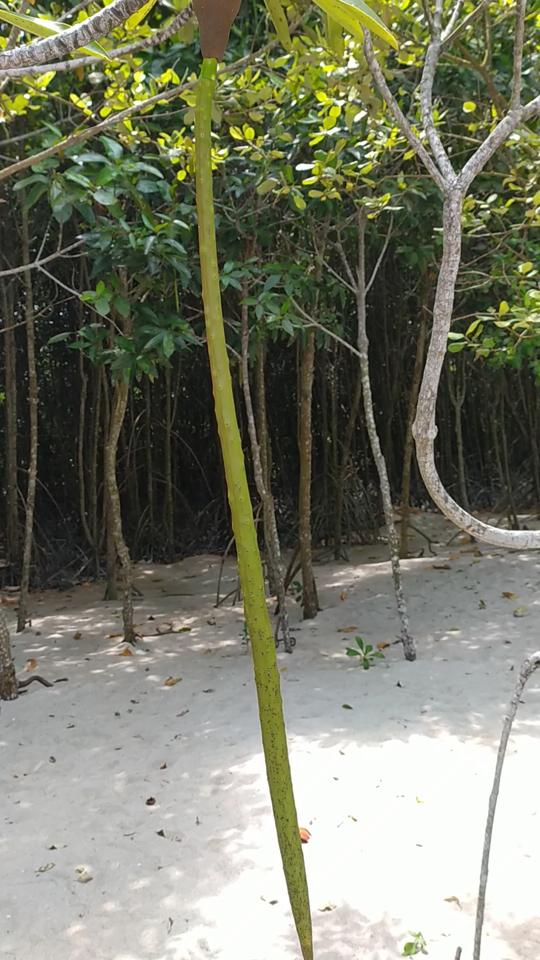mentah: (160, 1, 331, 956)
